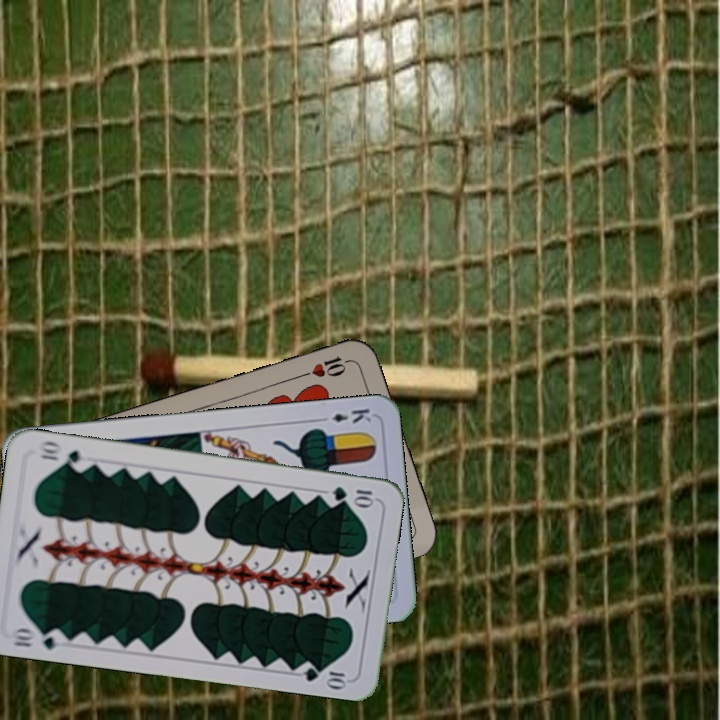EK: (314, 404, 374, 426)
G10: (7, 623, 67, 652), (329, 482, 376, 507)
H10: (297, 352, 355, 380)
